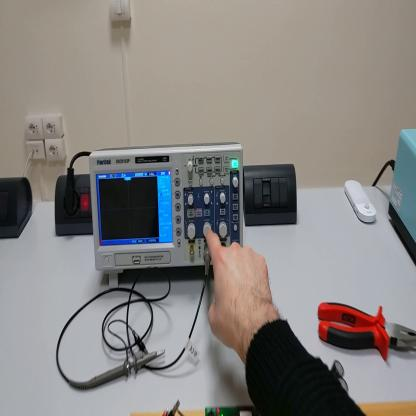hand: (204, 225, 279, 352)
high voltage board: (171, 357, 352, 414)
oscilloscope: (89, 144, 245, 292)
oscilloscope probe tip: (82, 346, 168, 397)
pliers: (315, 302, 415, 366)
socket: (52, 174, 94, 238), (1, 177, 35, 241)
welder station: (387, 127, 416, 271)
working area: (131, 403, 416, 414)
